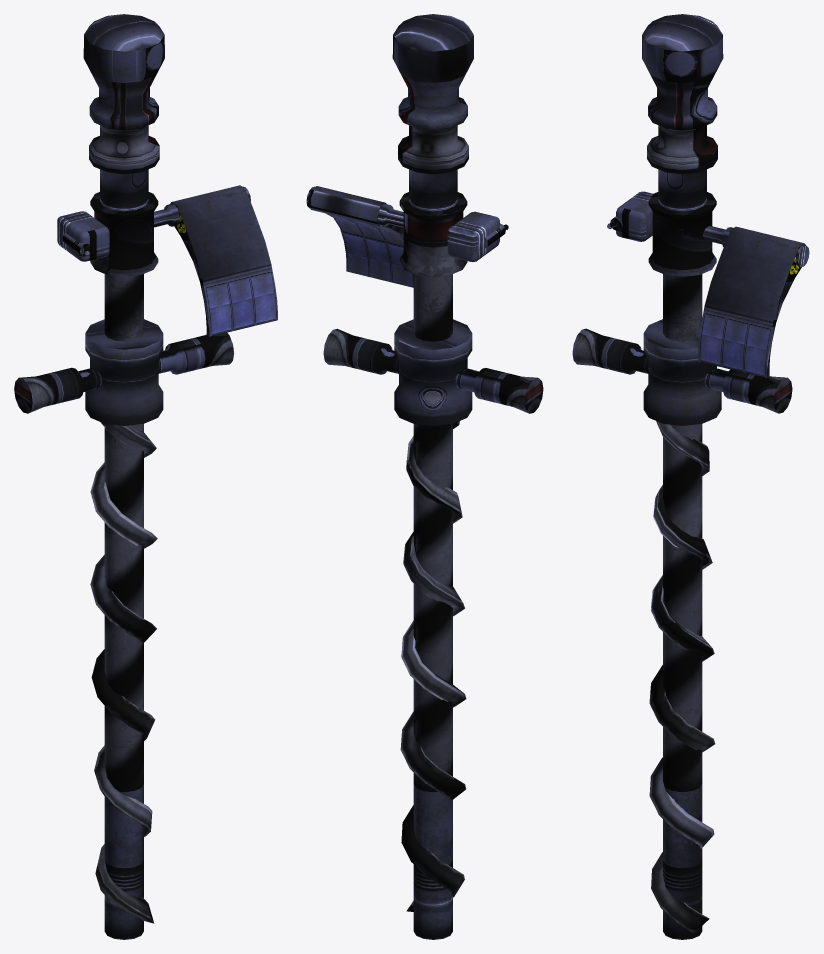
Rendered from vehabar.DAE.
3 renders of one model, left to right at view 1: azimuth 30°, elevation 25°; view 2: azimuth 150°, elevation 25°; view 3: azimuth 330°, elevation 25°, orthographic.
Parts seen in each view (by area): view 1: low01; view 2: low01; view 3: low01.
Boxes of the visible parts, x1,y1,x2,y2 form: low01: (14,14,277,939); low01: (306,14,543,939); low01: (572,14,809,939).
Size of the model in its own units: 21.17 by 9.07 by 82.82.
1 material, 1 textured.
